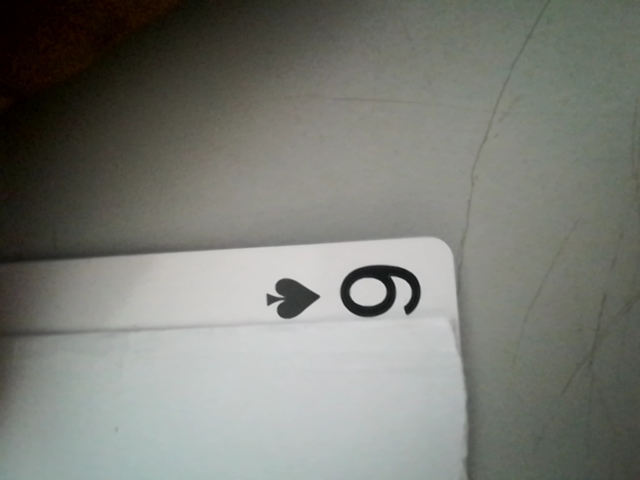ht 6: (248, 249, 442, 329)
